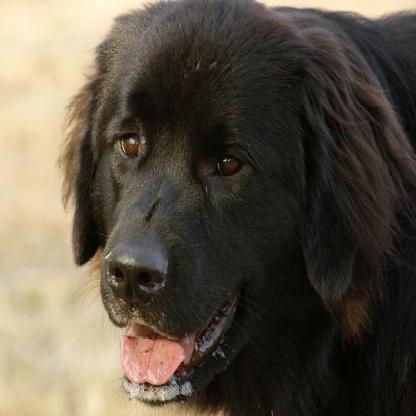Newfoundland: (56, 1, 414, 414)
